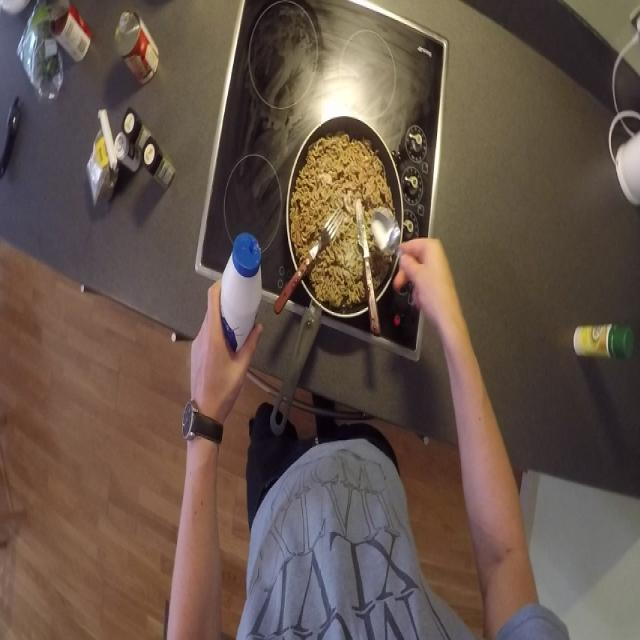can: (114, 2, 160, 86)
fork: (277, 204, 342, 312)
knife: (354, 189, 381, 350)
left hand: (188, 266, 248, 435)
right hand: (395, 224, 472, 388)
salt: (216, 220, 260, 362)
